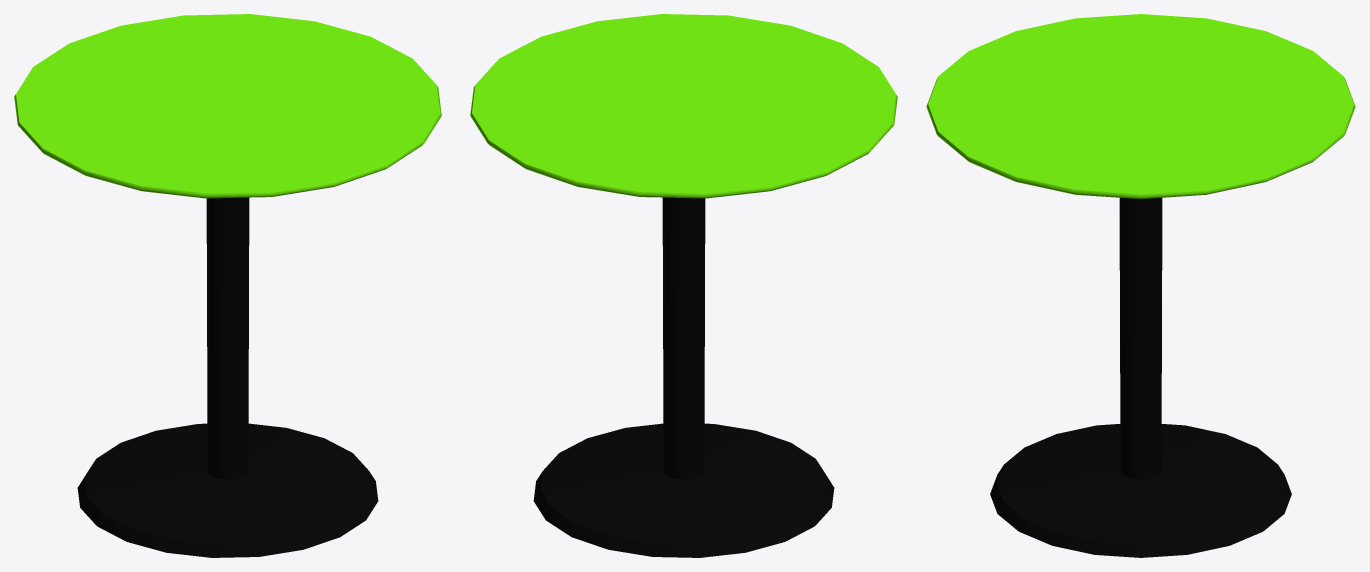
File: Petite_Table_Verte.FBX
3 views of the same model, side by side, from view 1: azimuth 30°, elevation 25°; view 2: azimuth 150°, elevation 25°; view 3: azimuth 270°, elevation 25° (orthographic).
Parts seen in each view (by area): view 1: Cylinder001; view 2: Cylinder001; view 3: Cylinder001.
Part boxes in pixels (x1,y1,x2,y2): Cylinder001: (14, 14, 441, 557); Cylinder001: (470, 14, 897, 557); Cylinder001: (926, 14, 1355, 557).
Size of the model in its own units: 58.78 by 58.96 by 58.78.
